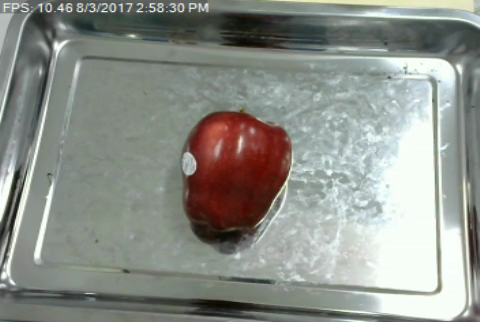Apple: (176, 101, 297, 240)
